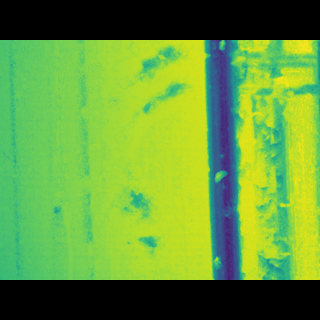Loch: (90, 69, 200, 246), (226, 74, 320, 251)
